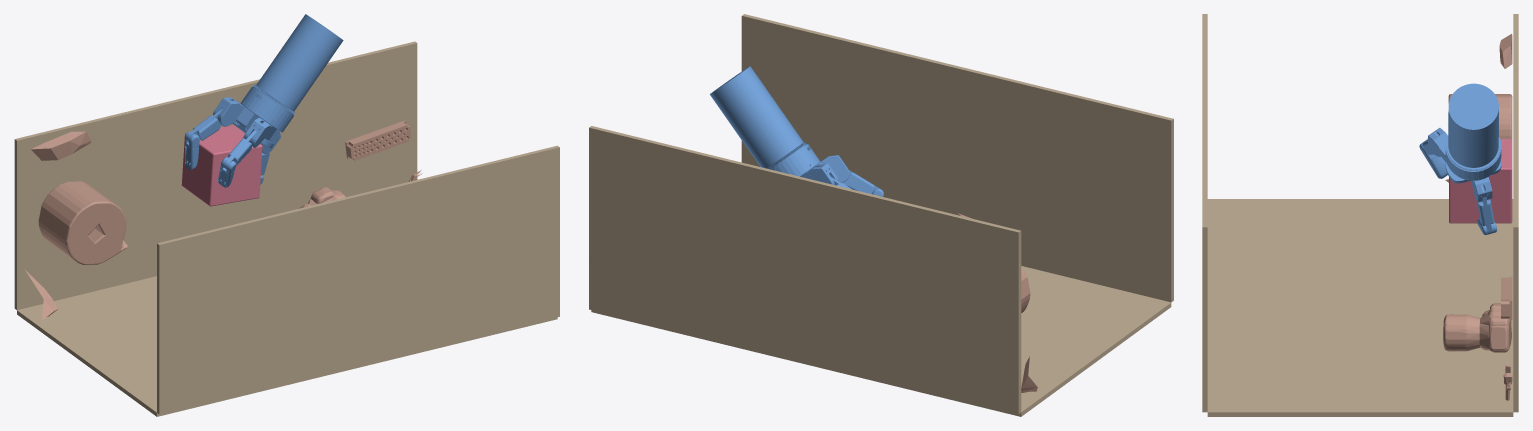
The picture shows the model from 3 angles, left to right: view 1: azimuth 30°, elevation 25°; view 2: azimuth 150°, elevation 25°; view 3: azimuth 270°, elevation 25°; orthographic projection. The views are drawn at different scales.
Parts seen in each view (by area): view 1: environment, hand, obstacle_002, world, obstacle_005, obstacle_003; view 2: environment, hand; view 3: environment, hand, world, obstacle_000, obstacle_002, obstacle_005, obstacle_003.
Boxes of the visible parts, x1,y1,x2,y2 form: environment: (14,41,559,416); hand: (185,14,343,187); obstacle_002: (38,181,127,264); world: (181,125,262,206); obstacle_005: (345,120,411,160); obstacle_003: (31,131,91,160); environment: (589,14,1173,416); hand: (710,66,883,196); environment: (1202,14,1518,416); hand: (1419,83,1501,235); world: (1449,139,1512,223); obstacle_000: (1443,303,1511,352); obstacle_002: (1448,94,1512,139); obstacle_005: (1501,276,1512,319); obstacle_003: (1499,34,1512,68).
Bounding box in the file's own units: 0.821 × 0.4653 × 0.5006.
